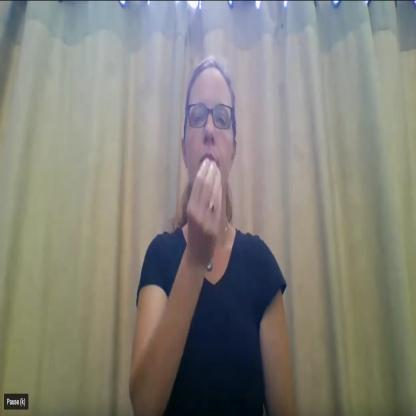Food: (172, 46, 260, 278)
